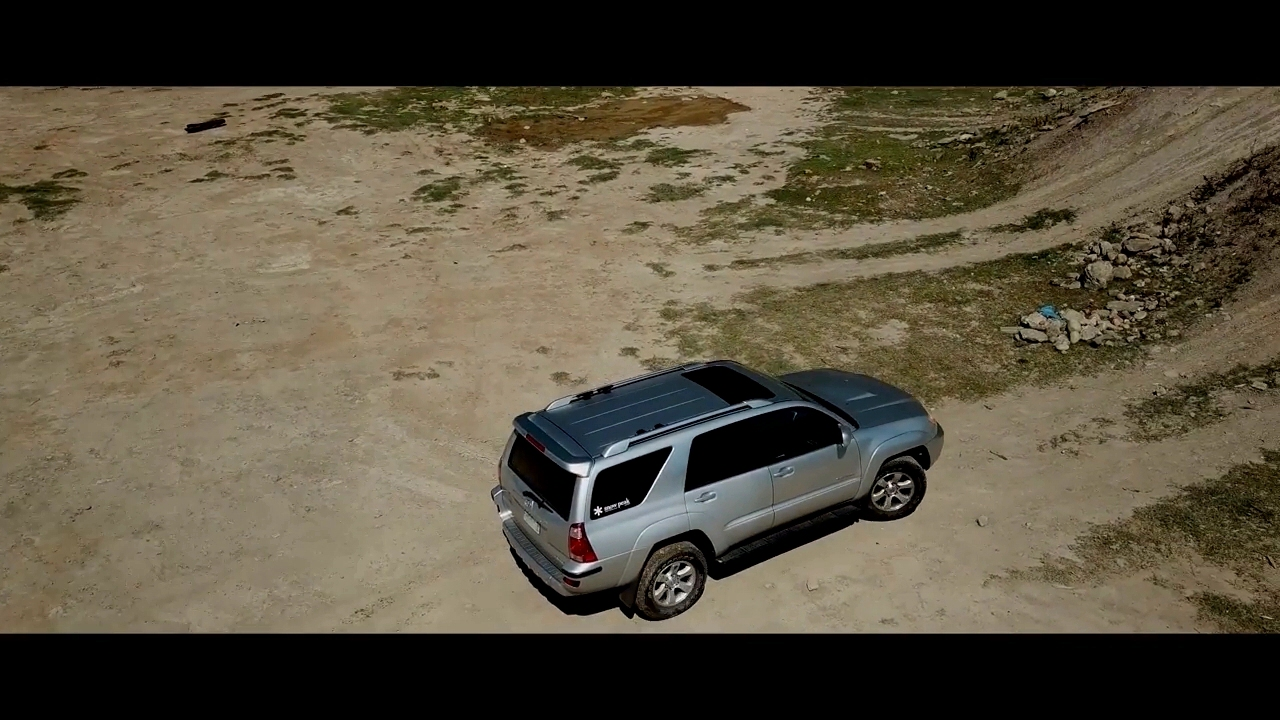araba: (489, 356, 944, 621)
